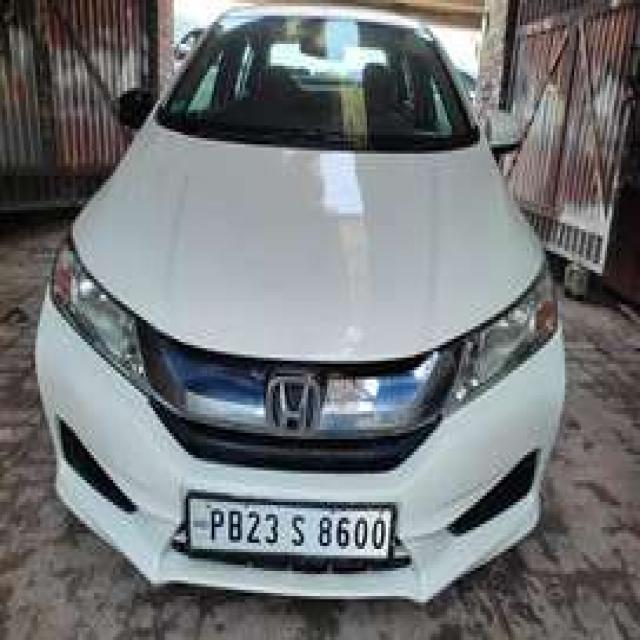Plate: (187, 494, 389, 553)
